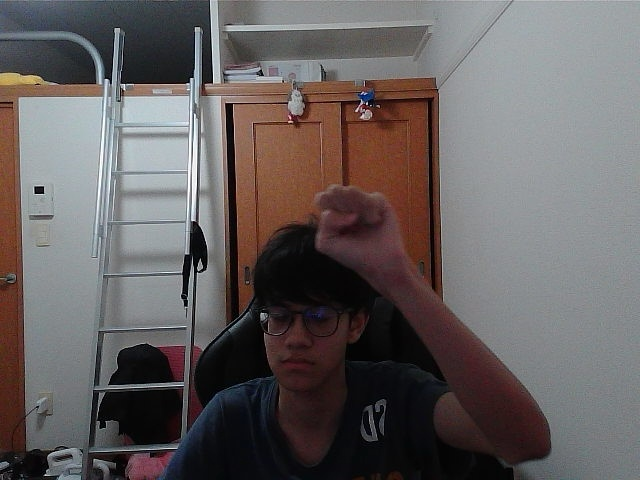closed_palm: (321, 191, 386, 268)
